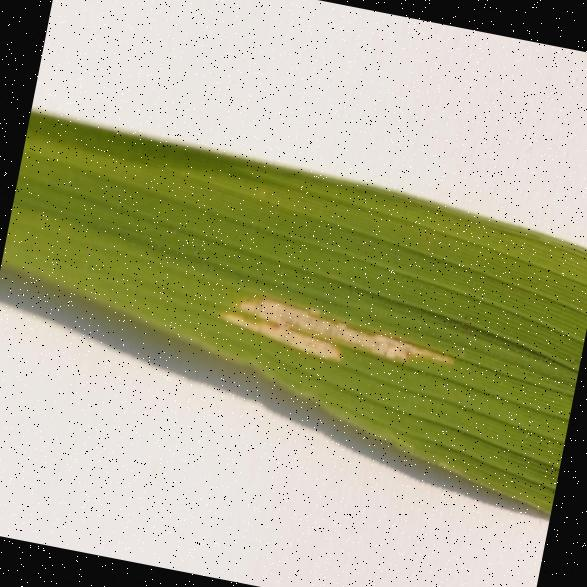Bacteria_Leaf_Blight: (200, 245, 487, 430)
